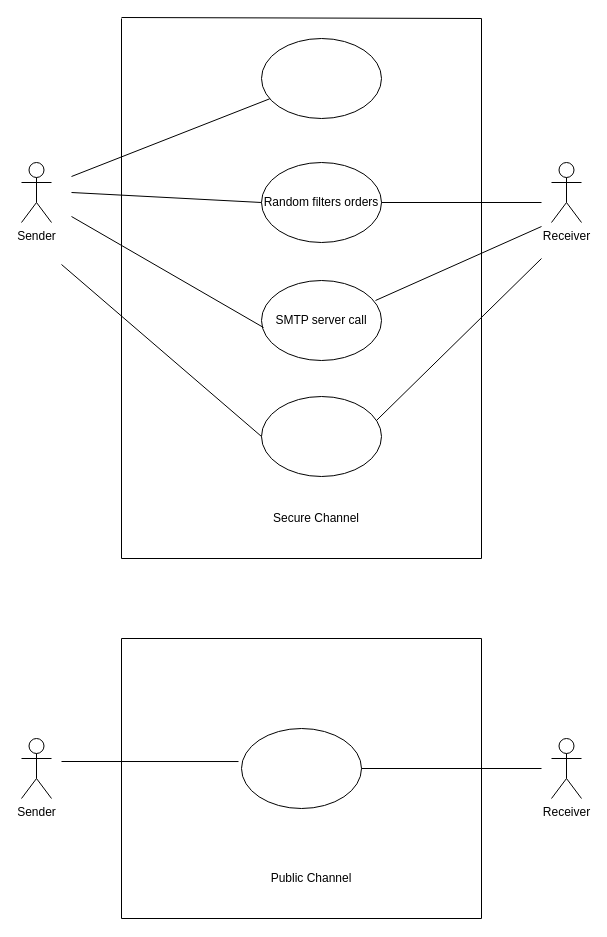
Some shapes in this 607 by 937 pixel diagram are drawn without their labels. Here are the shapes that lost their labels. From the top down, the centre of each, then its label:
(x=321, y=78): Random Binary digits
(x=321, y=436): Gmail Login
(x=301, y=768): Exchange filter pattern
